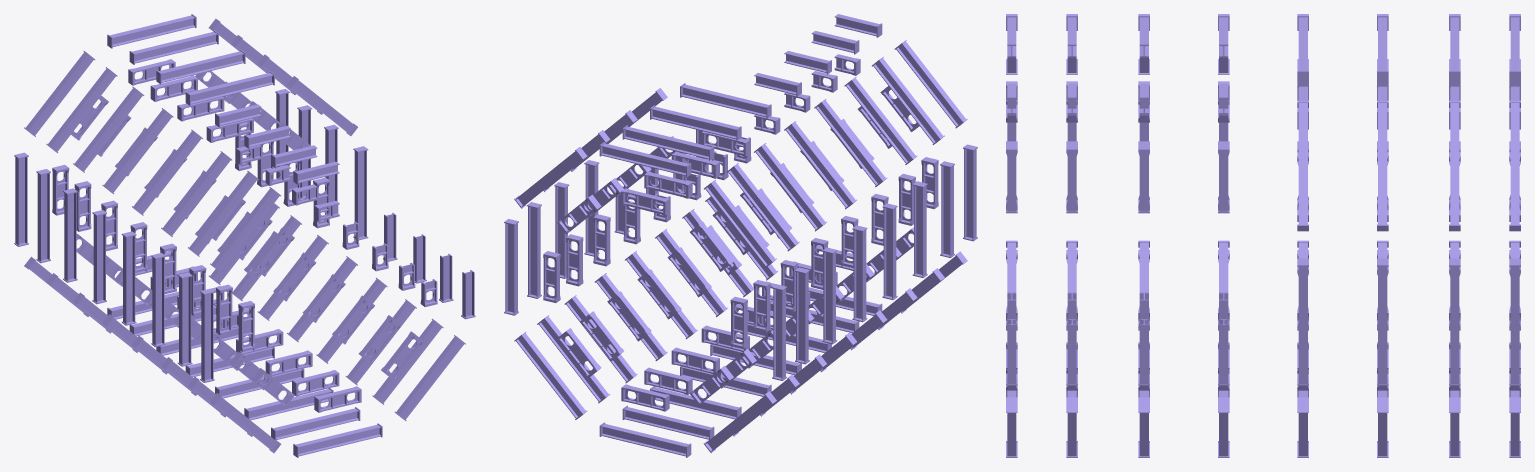
The model's file is Warm-Structure-cut4.glb.
The picture shows the model from 3 angles, left to right: view 1: azimuth 30°, elevation 25°; view 2: azimuth 150°, elevation 25°; view 3: azimuth 270°, elevation 25°; orthographic projection. The views are drawn at different scales.
Parts seen in each view (by area): view 1: S_Mesh_0-156; view 2: S_Mesh_0-156; view 3: S_Mesh_0-156.
Part boxes in pixels (x1,y1,x2,y2): S_Mesh_0-156: [14, 14, 475, 457]; S_Mesh_0-156: [504, 14, 977, 457]; S_Mesh_0-156: [1006, 14, 1520, 457].
Bounding box in the file's own units: 18.28 × 18.28 × 22.19.
